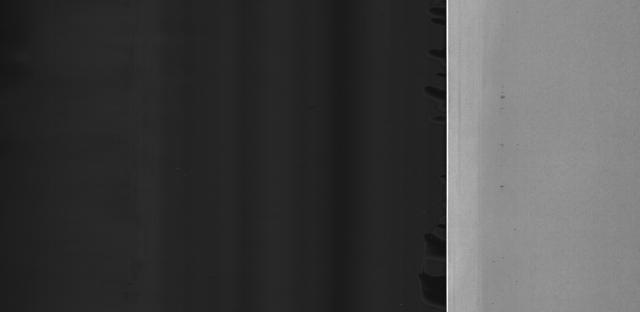inclusion: (496, 85, 508, 106), (493, 179, 508, 193), (495, 136, 507, 151)
